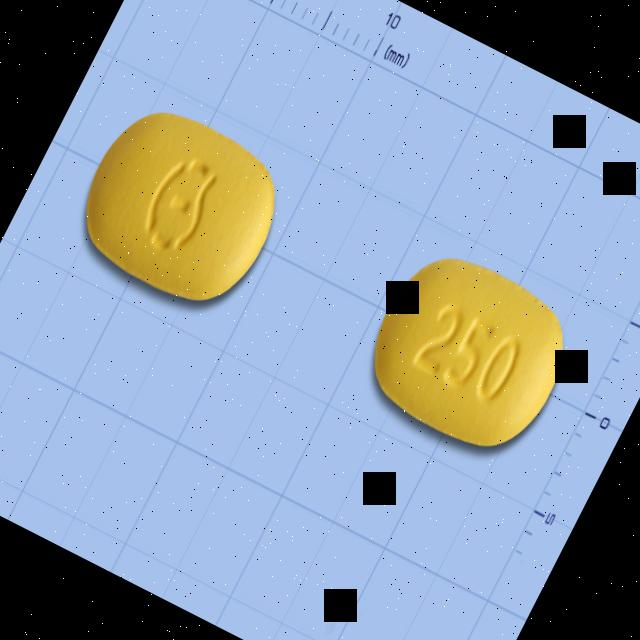Clarione -500mg: (56, 85, 307, 333), (344, 230, 594, 478)
